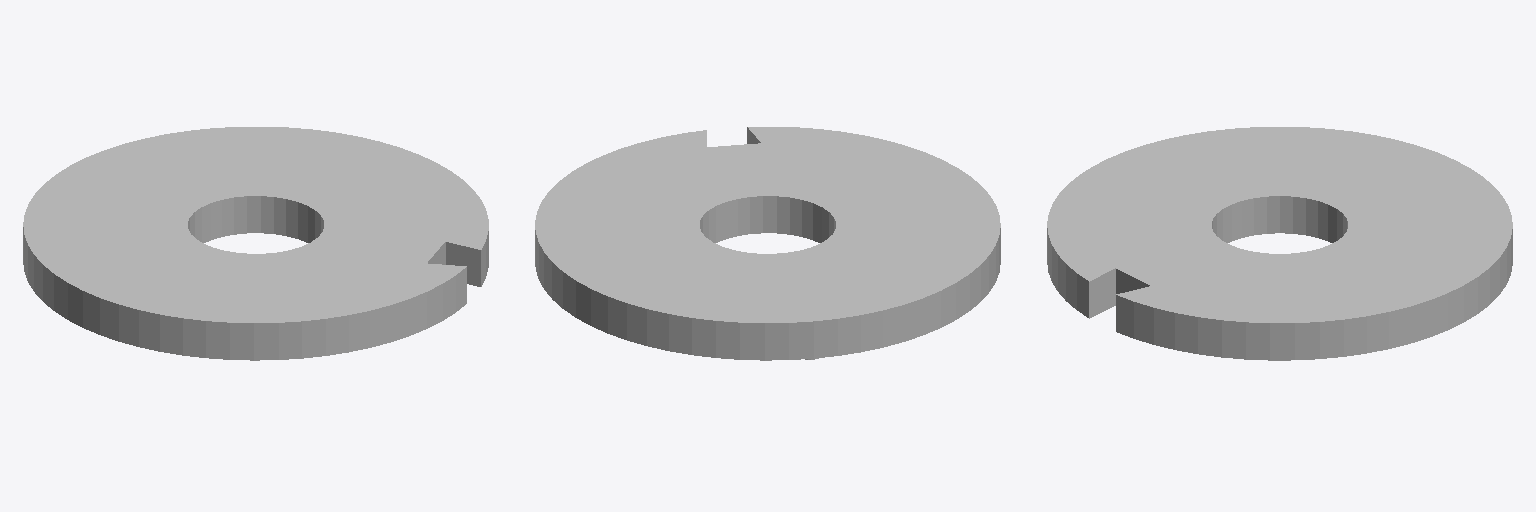
The model's file is wheel2.obj.
3 views of the same model, side by side, from view 1: azimuth 30°, elevation 25°; view 2: azimuth 150°, elevation 25°; view 3: azimuth 270°, elevation 25° (orthographic).
Bounding box in the file's own units: 33.99 × 5 × 34.